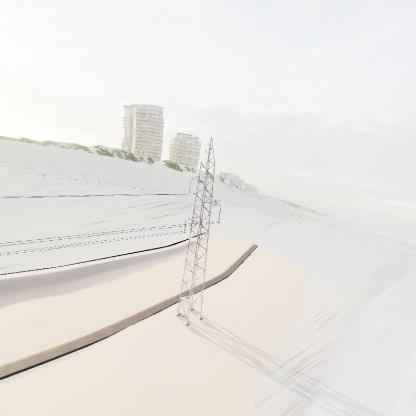tower: (169, 138, 227, 326)
